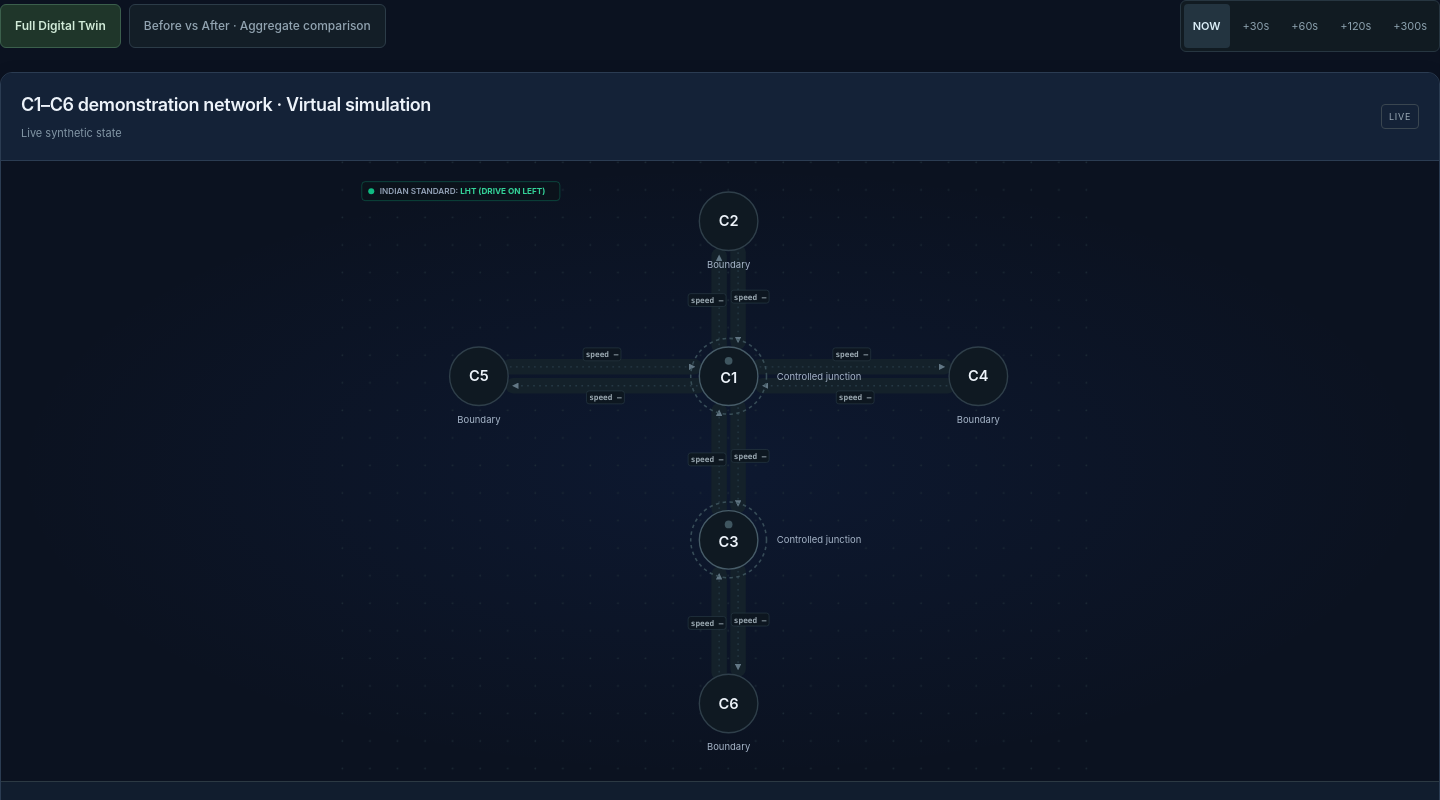
Test: Epic 7: Before-vs-after Evidence (S21, S22) › S22: Synchronized comparison and impact › disables simulate button and shows loading text when isSimulating=true
The image size is (1440, 800).
Click the button "Before vs After · Aggregate comparison" at (257, 26), box [129,4,386,48]
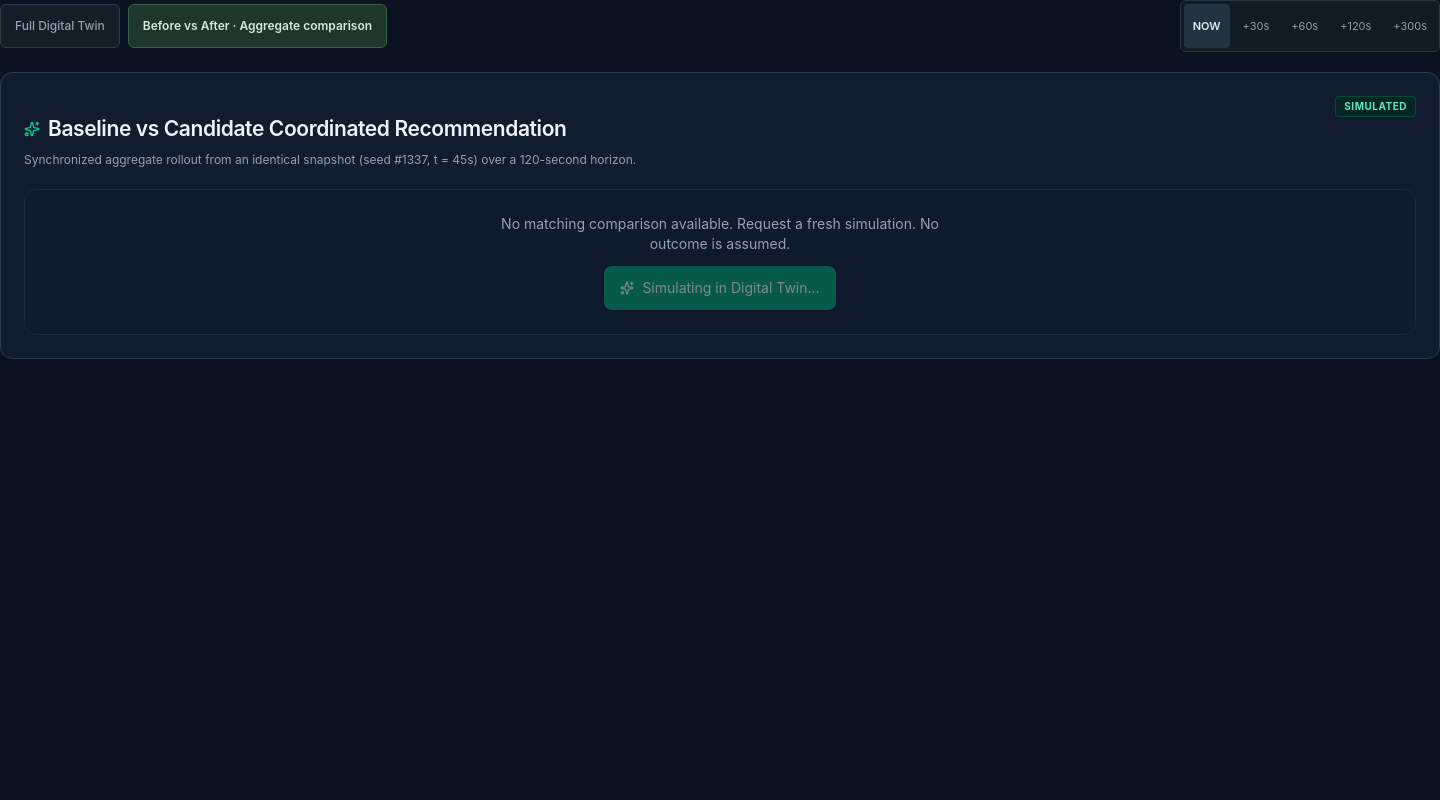
Now the button "Simulating in Digital Twin..." is disabled, box [604,266,836,310]
